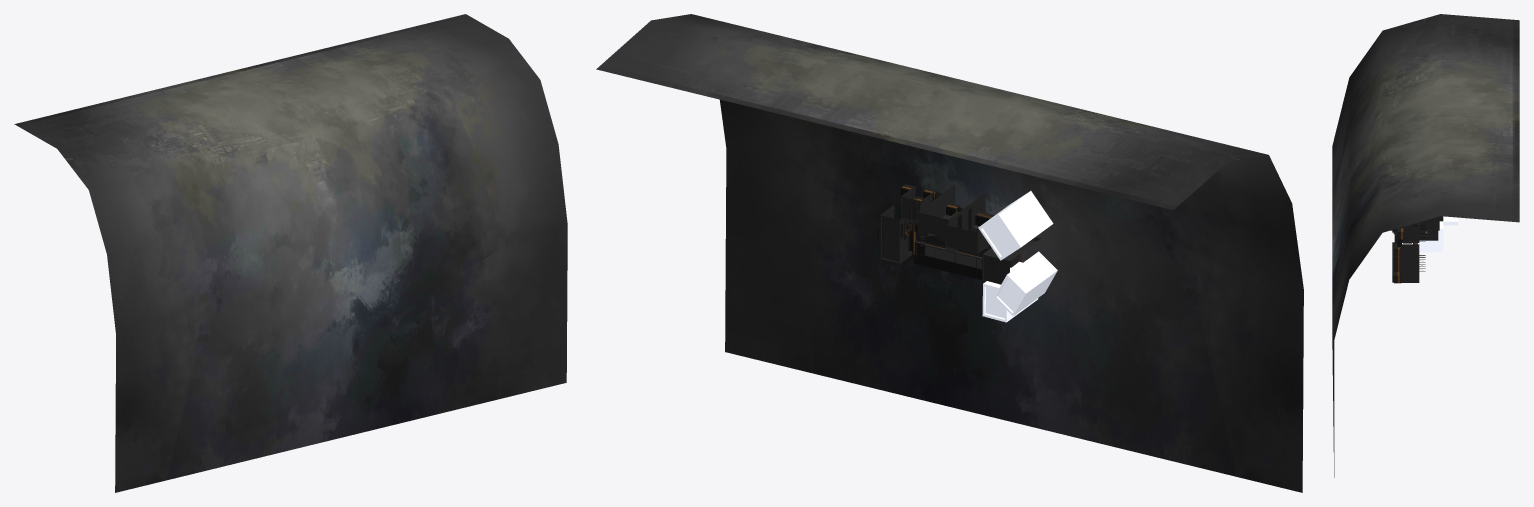
The model's file is BATTLE.fbx.
3 renders of one model, left to right at view 1: azimuth 30°, elevation 25°; view 2: azimuth 150°, elevation 25°; view 3: azimuth 270°, elevation 25°, orthographic. The views are drawn at different scales.
Visible parts, largest first — view 1: BG_Qcity; view 2: BG_Qcity, Shadow (1), Shadow (3), S_export_cube144, S_Outworld_prop_0374, S_export_cube0, Qcity_low:S_Outworld_21231, Shadow (4); view 3: BG_Qcity, S_export_cube0, Shadow (4), S_export_cube216, S_export_cube144.
Part boxes in pixels (x1,y1,x2,y2): BG_Qcity: (14, 14, 567, 492); BG_Qcity: (596, 14, 1303, 492); Shadow (1): (978, 191, 1053, 260); Shadow (3): (994, 251, 1057, 315); S_export_cube144: (918, 184, 985, 241); S_Outworld_prop_0374: (946, 202, 989, 254); S_export_cube0: (880, 205, 912, 264); Qcity_low:S_Outworld_21231: (981, 237, 1040, 294); Shadow (4): (982, 261, 1038, 322); BG_Qcity: (1332, 14, 1519, 477); S_export_cube0: (1399, 244, 1419, 282); Shadow (4): (1402, 221, 1443, 252); S_export_cube216: (1399, 222, 1419, 242); S_export_cube144: (1391, 216, 1439, 230).
Bounding box in the file's own units: 0.5573 × 0.3558 × 0.2179.
